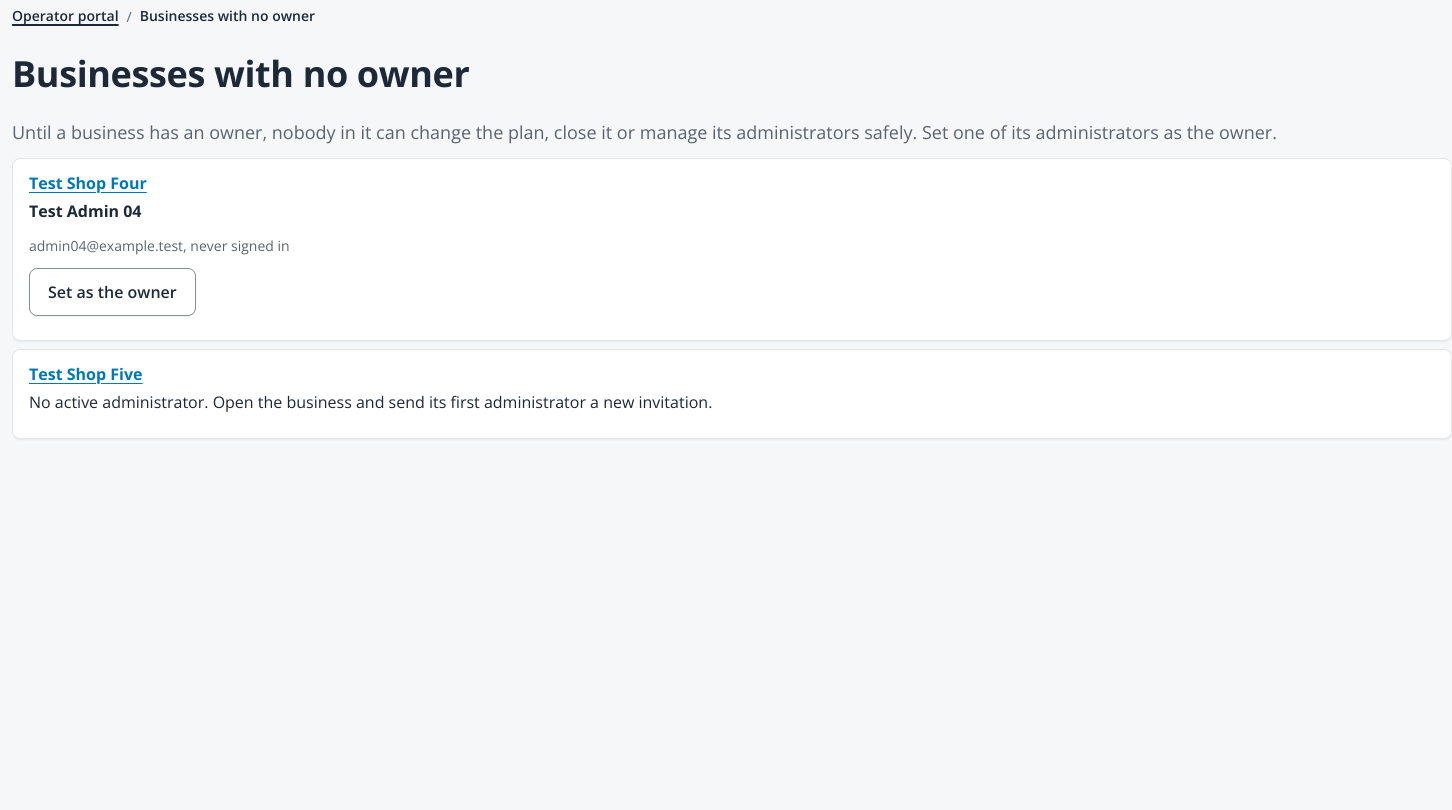
Test: businesses with no owner › sets an administrator as the owner with the code and a reason
Check: the text "Test Admin 04" is shown, box 29,200 -> 142,222
Check: the text "No active administrator" is shown, box 29,391 -> 712,413
Click the button "Set as the owner": (112, 292) 29,268 -> 196,316
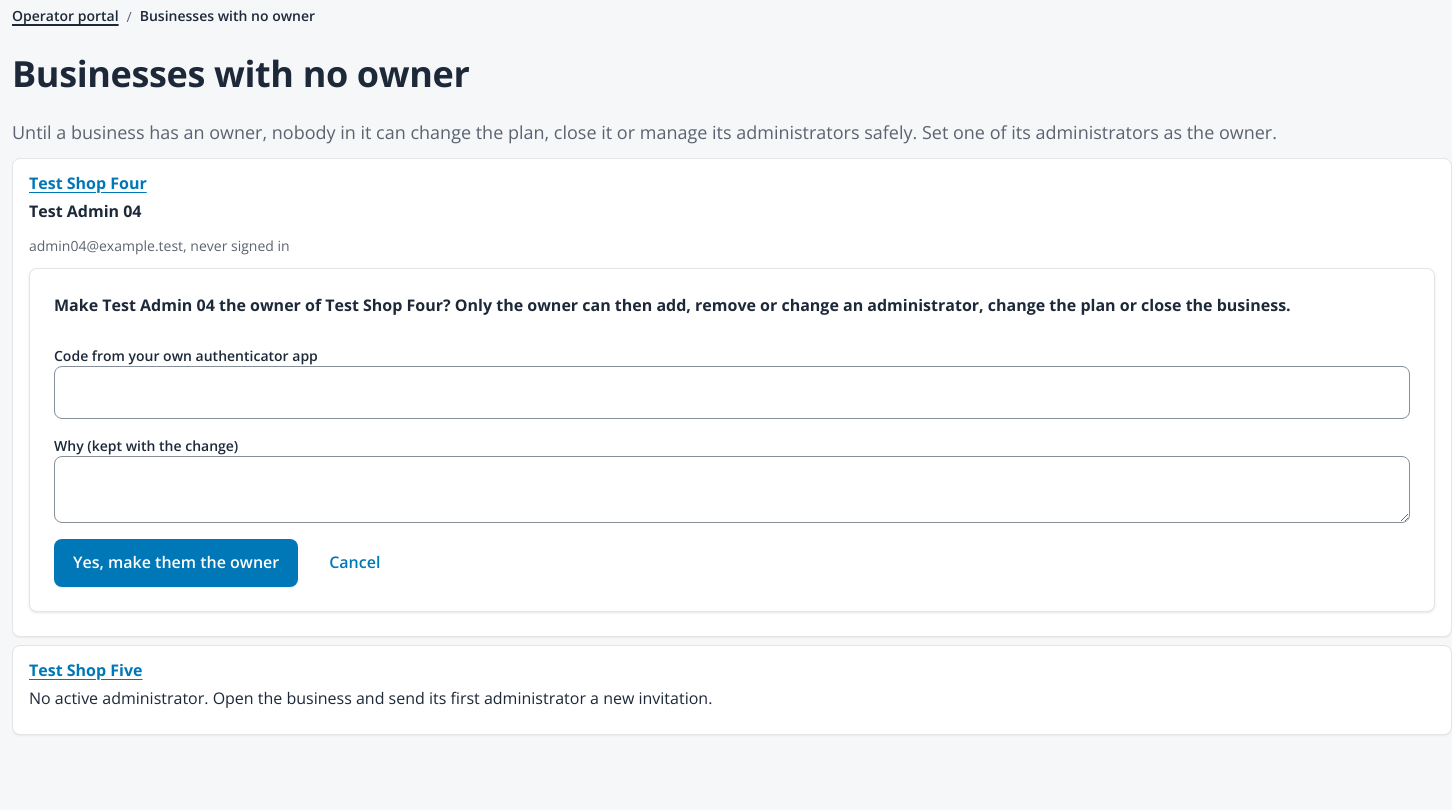
In the field labelled "Code from your own authenticator app": (732, 393) 54,366 -> 1410,419, type "654321"
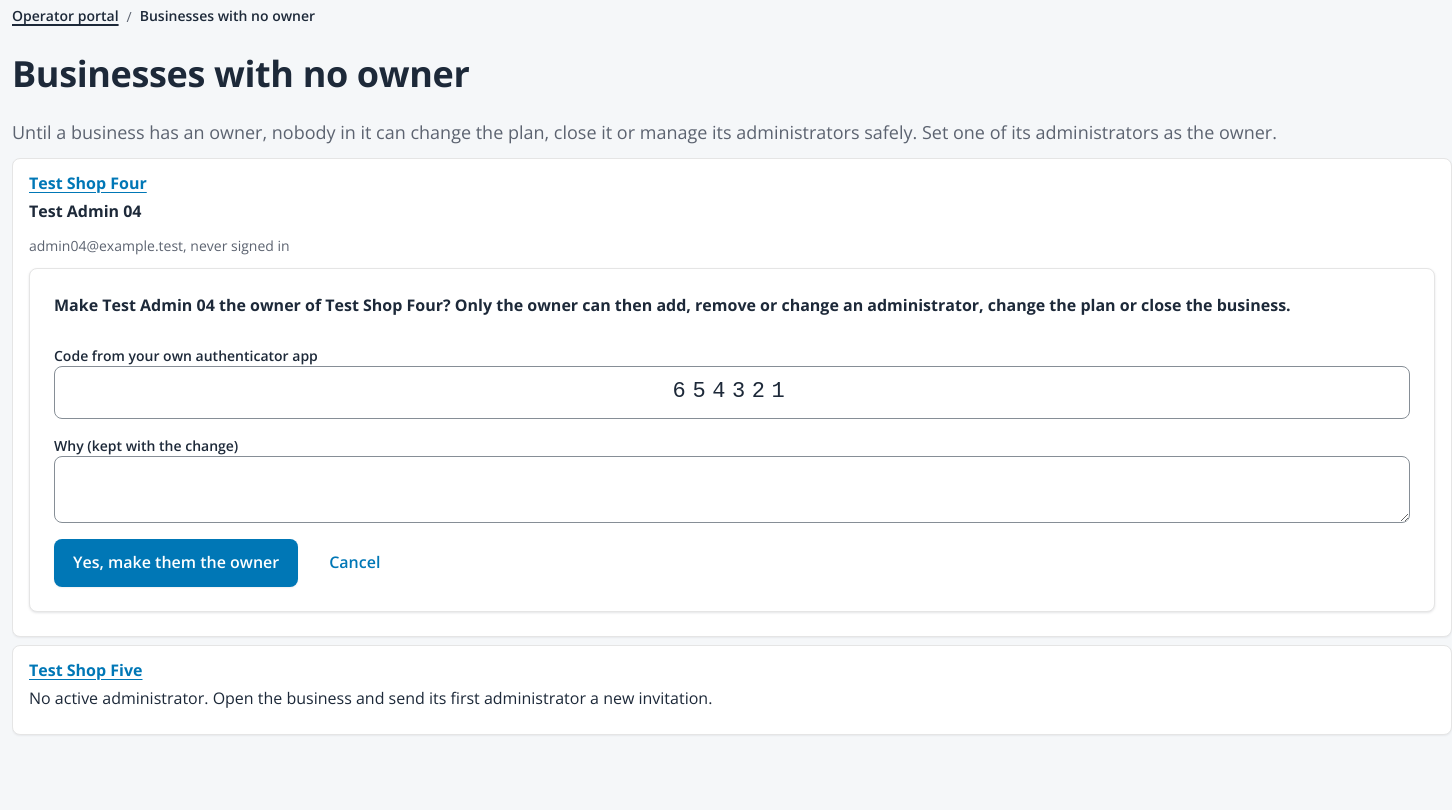
In the text box labelled "Why (kept with the change)": (732, 489) 54,456 -> 1410,523, type "Test: the owner phoned us"
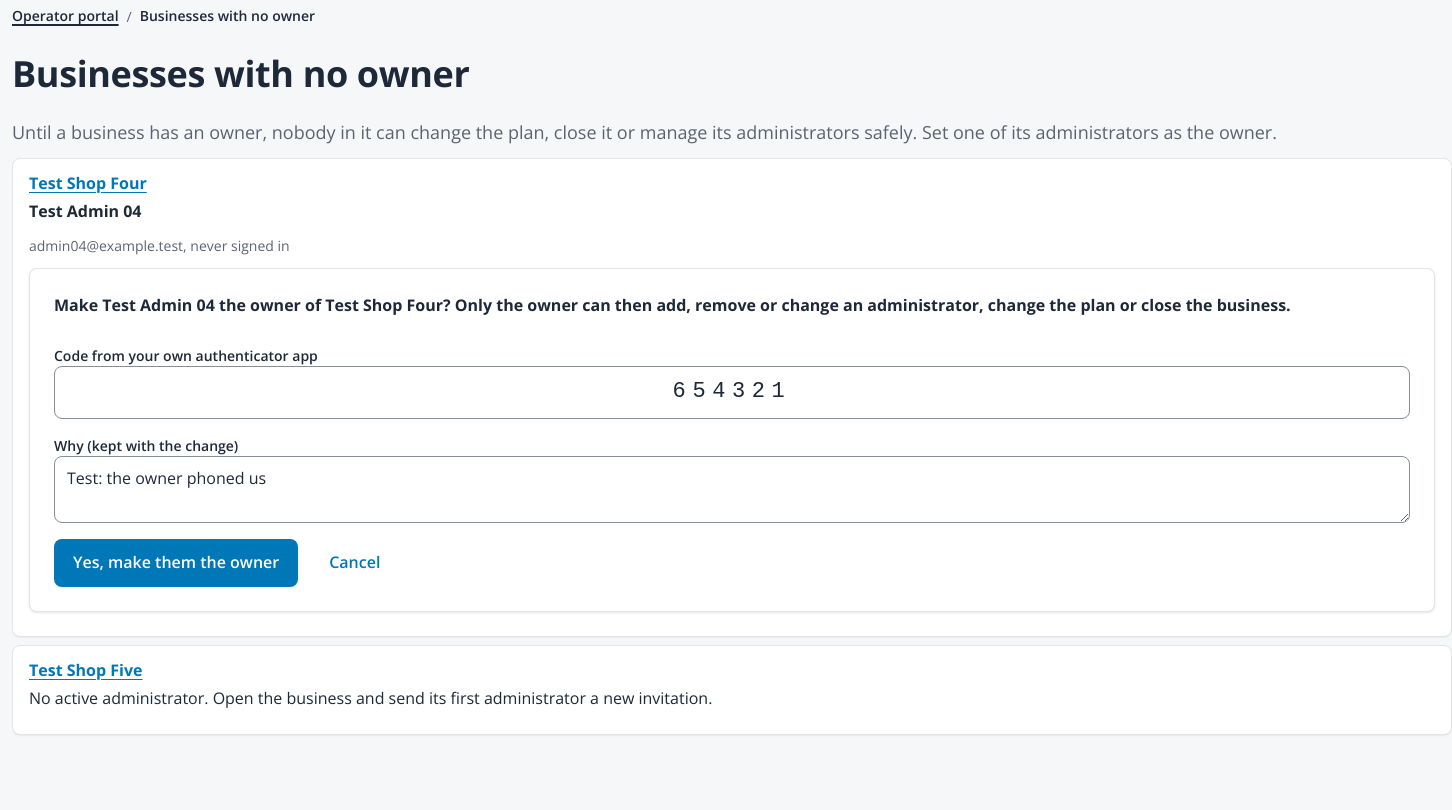
Click the button "Yes, make them the owner": (176, 563) 54,539 -> 298,587
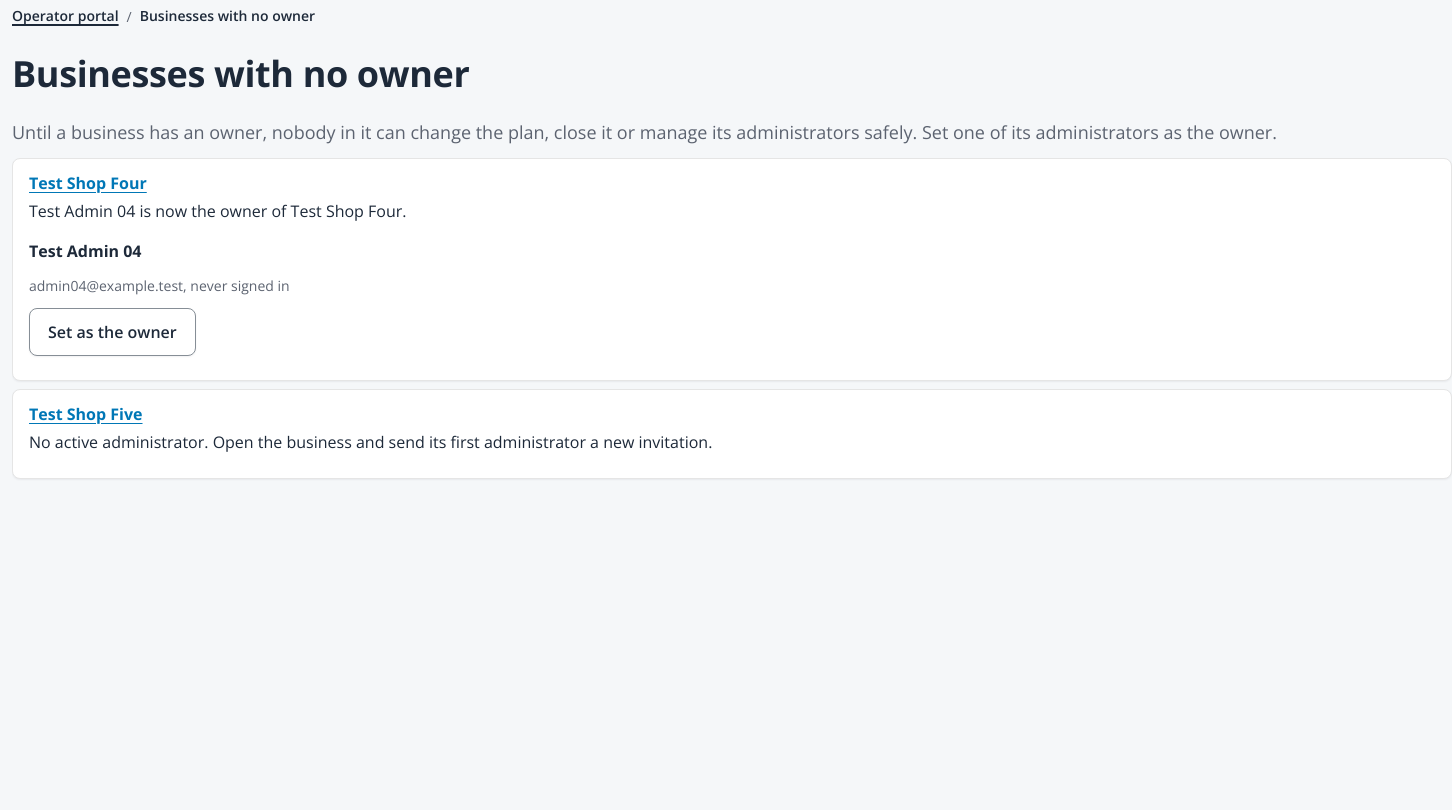
Check: the text "Test Admin 04 is now the owner of Test Shop Four." is shown, box 29,200 -> 406,222
